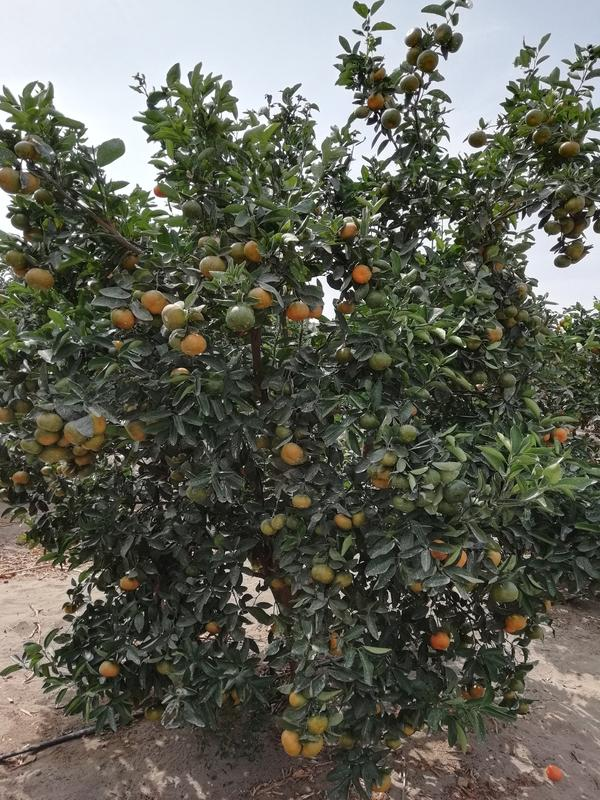mandarina naranja: (141, 289, 165, 315), (26, 268, 54, 288), (182, 334, 206, 356), (281, 730, 301, 756), (281, 442, 303, 465), (1, 167, 20, 193), (250, 288, 273, 309), (110, 308, 134, 328), (33, 430, 60, 445), (303, 736, 323, 756), (307, 715, 328, 734), (287, 303, 309, 320), (352, 265, 371, 283), (64, 426, 82, 445), (244, 241, 261, 261), (98, 661, 120, 676), (432, 632, 449, 650), (290, 691, 306, 709), (506, 617, 526, 631), (546, 763, 562, 780), (121, 576, 139, 591), (335, 514, 352, 529), (13, 470, 29, 484), (554, 427, 566, 443)
mandarina verde: (226, 306, 255, 331), (161, 304, 190, 329), (444, 479, 468, 503), (36, 412, 62, 432), (199, 257, 224, 277), (124, 419, 148, 439), (418, 49, 439, 71), (181, 198, 202, 219), (311, 564, 334, 583), (494, 584, 518, 602), (405, 26, 422, 48), (398, 424, 418, 442), (370, 353, 391, 370), (382, 109, 400, 128), (33, 188, 52, 206), (533, 126, 551, 145), (290, 493, 311, 509), (469, 130, 487, 148), (526, 109, 544, 127), (559, 141, 579, 157), (20, 439, 41, 454), (230, 243, 245, 263), (366, 292, 383, 309), (435, 23, 449, 43), (361, 412, 378, 428), (271, 514, 287, 531), (402, 76, 419, 91), (557, 186, 574, 201), (335, 573, 353, 587), (451, 33, 463, 53), (544, 220, 561, 234), (554, 255, 572, 268), (560, 217, 573, 235), (261, 518, 274, 535), (501, 373, 516, 387), (473, 370, 486, 384), (506, 305, 518, 318), (520, 309, 530, 323), (412, 286, 422, 296)
